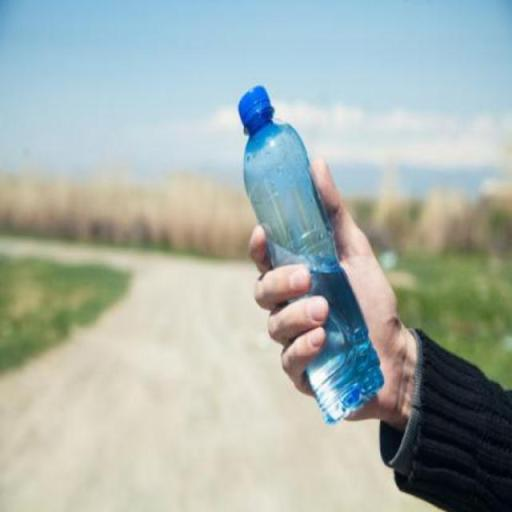Coca: (230, 80, 388, 435)
